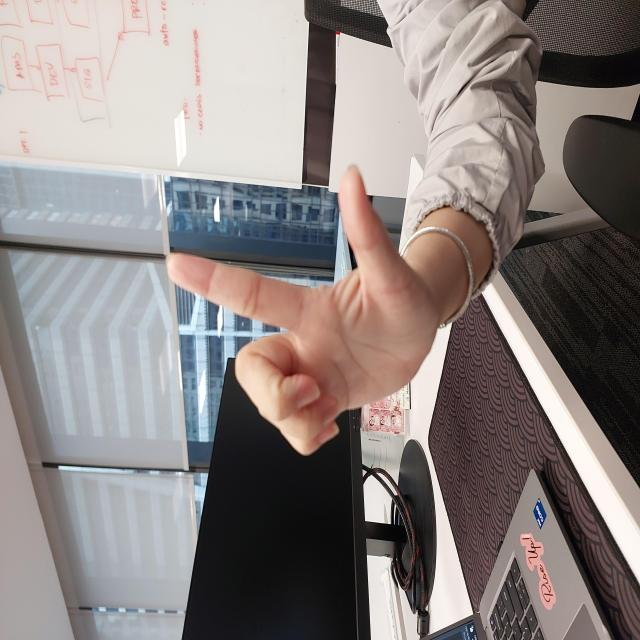L: (182, 164, 475, 433)
